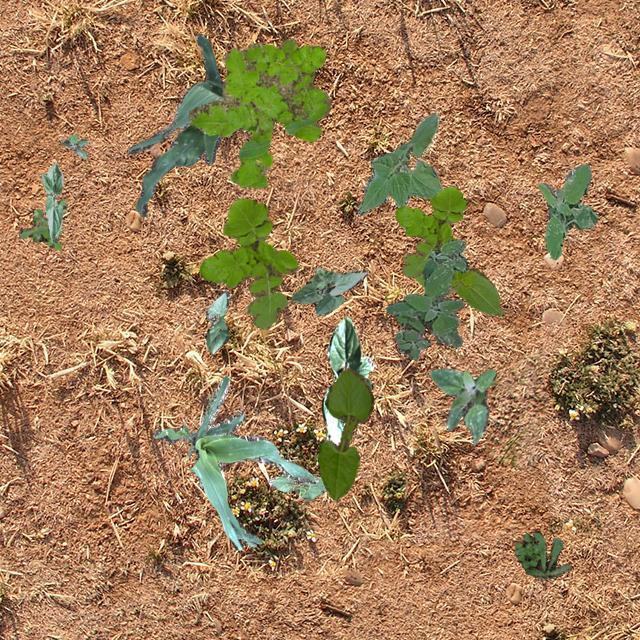crop: (152, 374, 318, 548), (128, 32, 225, 216), (356, 113, 442, 215), (316, 366, 372, 498), (320, 316, 374, 444), (412, 266, 503, 316), (290, 266, 366, 314), (40, 162, 62, 242), (268, 472, 326, 500), (204, 288, 228, 352)
weed: (188, 37, 328, 186), (198, 198, 296, 328), (386, 238, 466, 359), (394, 186, 466, 276), (538, 162, 596, 258), (428, 368, 496, 444), (514, 530, 570, 578), (18, 198, 66, 248), (59, 132, 86, 158)
